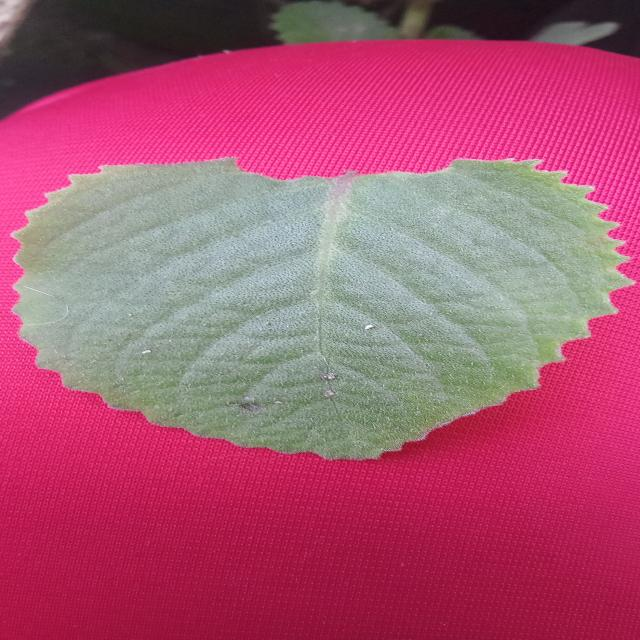Oregano: (18, 154, 640, 463)
